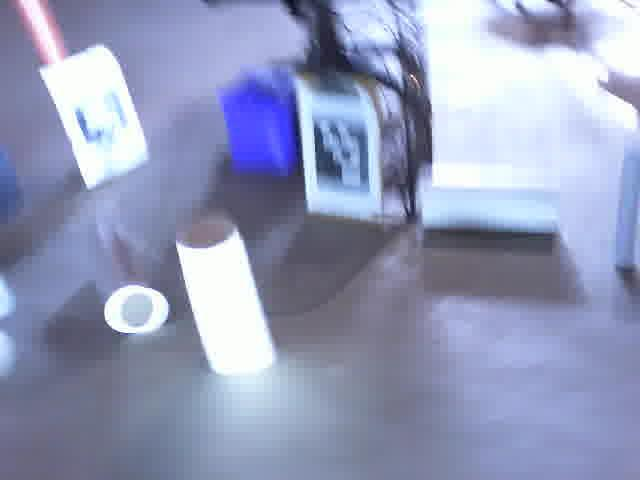coral: (175, 193, 278, 391), (403, 155, 577, 247), (85, 247, 170, 335)
